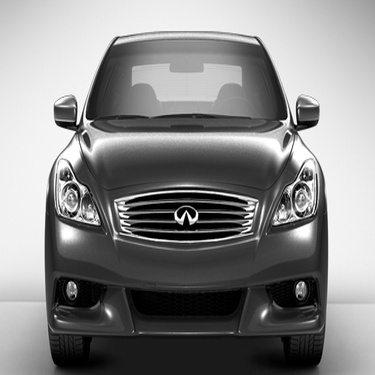car: (27, 21, 332, 370)
